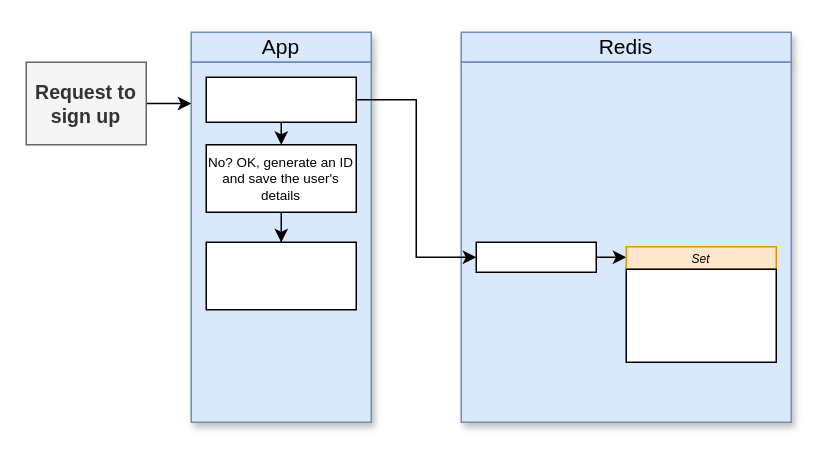
Image size: 827x459. Some labels were removed from this diagram. Here are the shapes that lost their labels. From the top down, the centre of each, then its label:
[280,99]: See if username is in use
[280,275]: Done
[535,256]: usernames:unique
